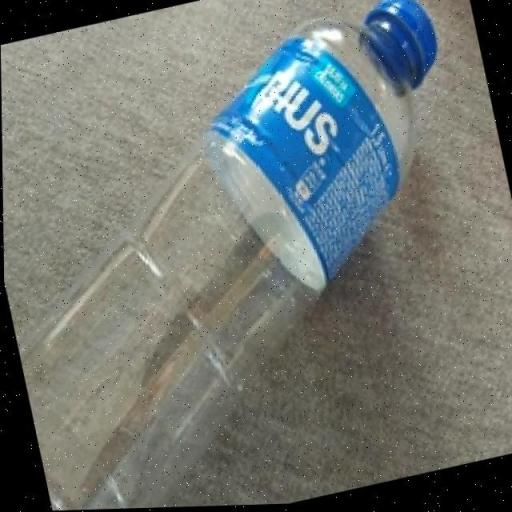plastic: (17, 0, 441, 511)
